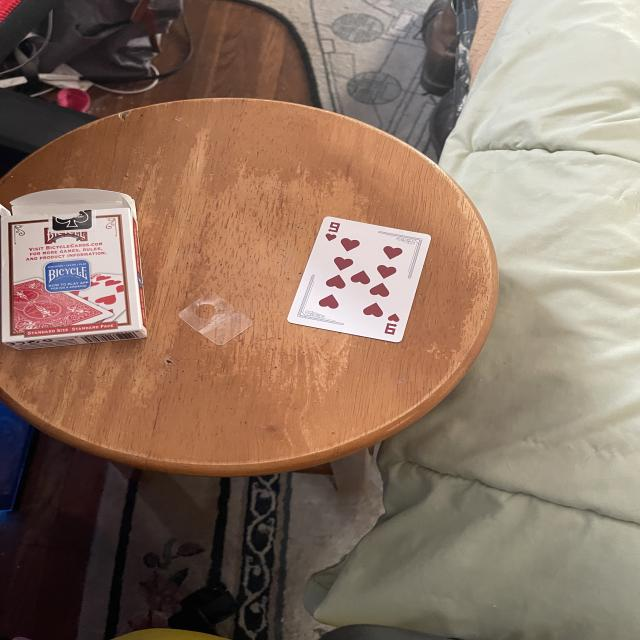9 of hearts: (289, 215, 436, 348)
